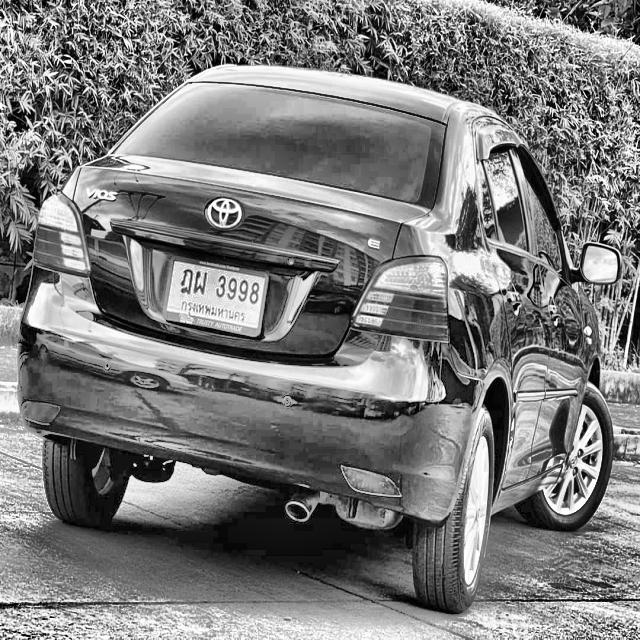license-plate: (161, 248, 266, 345)
